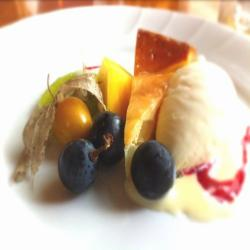apple_pie: (120, 29, 193, 189)
icecream: (158, 58, 239, 191)
